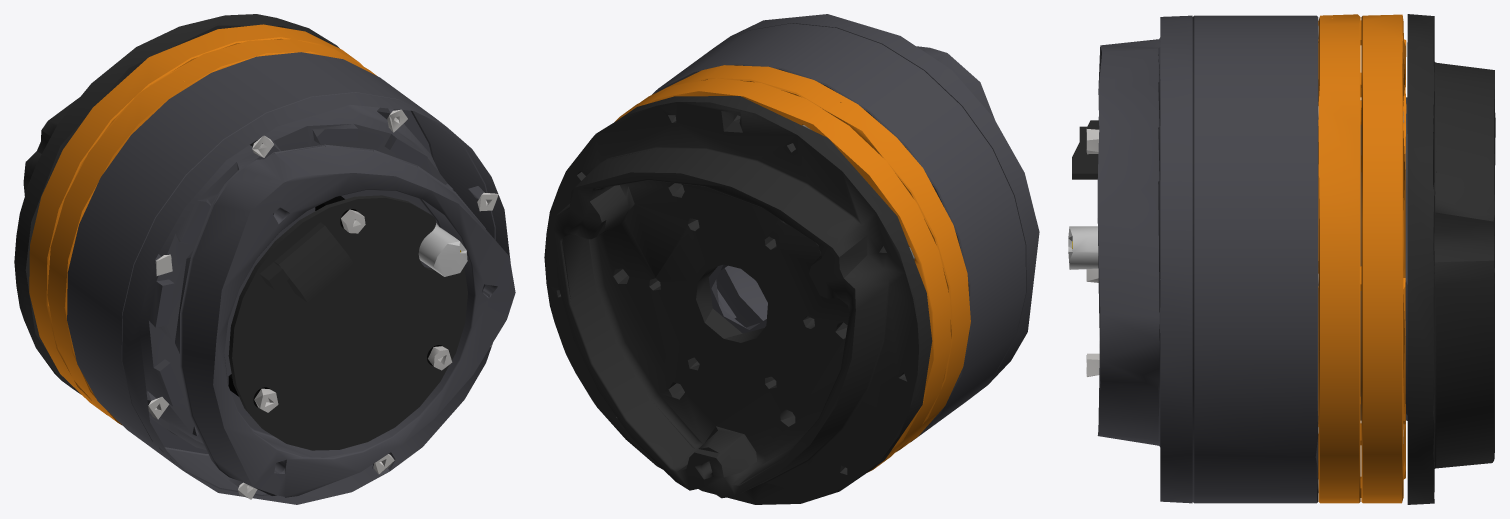
File: motor3.dae
3 views of the same model, side by side, from view 1: azimuth 30°, elevation 25°; view 2: azimuth 150°, elevation 25°; view 3: azimuth 270°, elevation 25° (orthographic). The views are drawn at different scales.
Visible parts, largest first — view 1: motor3; view 2: motor3; view 3: motor3.
Part boxes in pixels (x1,y1,x2,y2): motor3: (14,14,515,504); motor3: (544,14,1039,504); motor3: (1068,14,1495,504).
Size of the model in its own units: 0.105 by 0.092 by 0.1057.
